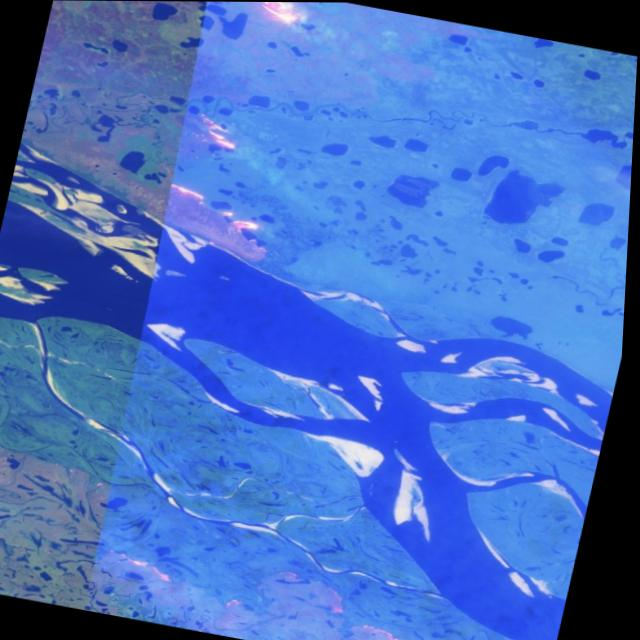fire: (145, 171, 275, 241), (183, 102, 254, 161), (113, 545, 189, 589), (234, 1, 312, 38)
